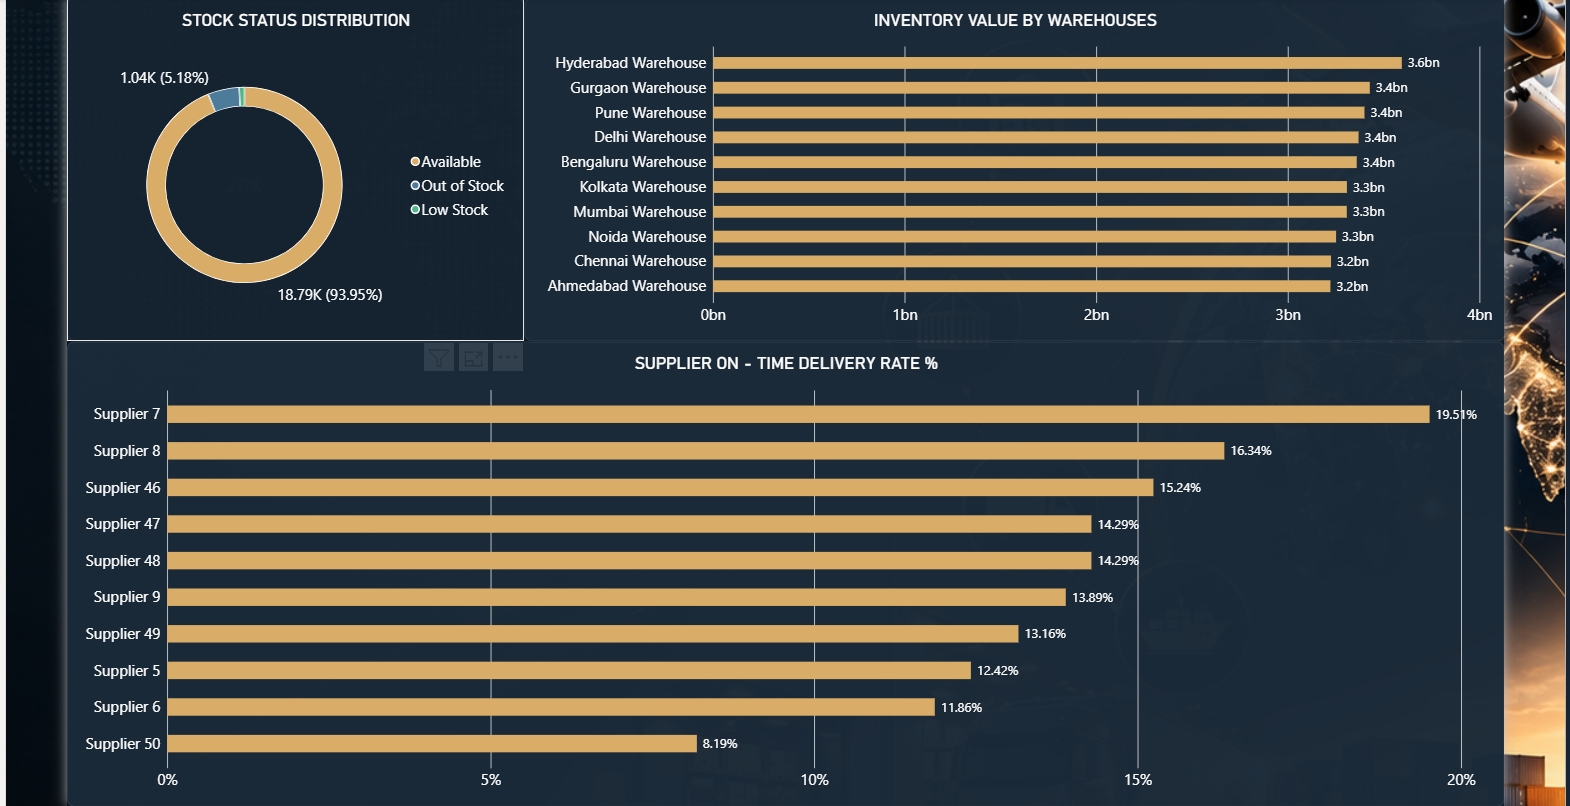

What the dashboard file says about the page in this screenshot:
{"tool":"powerbi","page":{"name":"Page 2","canvas":[1920,1080],"ordinal":1},"visuals":[{"type":"donutChart","title":"STOCK STATUS DISTRIBUTION","fields":{"Category":["inventory.STOCK_STATUS"],"Y":["CountNonNull(inventory.STOCK_STATUS)"]},"box":[0,0,610.5,458.7],"z":0},{"type":"clusteredBarChart","title":"INVENTORY VALUE BY WAREHOUSES","fields":{"Category":["warehouses.Warehouse_Name"],"Y":["inventory.Total Inventory Value"]},"box":[610.5,0,1309.9,458.7],"z":1},{"type":"clusteredBarChart","title":"SUPPLIER ON - TIME  DELIVERY RATE %","fields":{"Category":["suppliers.Supplier_Name"],"Y":["inventory.Supplier On-Time Rate %"]},"box":[0,458.7,1920.4,620.9],"z":2}]}

Visuals, with their boxes on the page's 1920x1080 design canvas (x1, y1, x2, y2). These are canvas units, not pixel positions in the 1570x806 screenshot, which may show the page scaled, cropped or inside an application window:
"STOCK STATUS DISTRIBUTION" donutChart: (left=0, top=0, right=610, bottom=459)
"INVENTORY VALUE BY WAREHOUSES" clusteredBarChart: (left=610, top=0, right=1920, bottom=459)
"SUPPLIER ON - TIME  DELIVERY RATE %" clusteredBarChart: (left=0, top=459, right=1920, bottom=1080)
